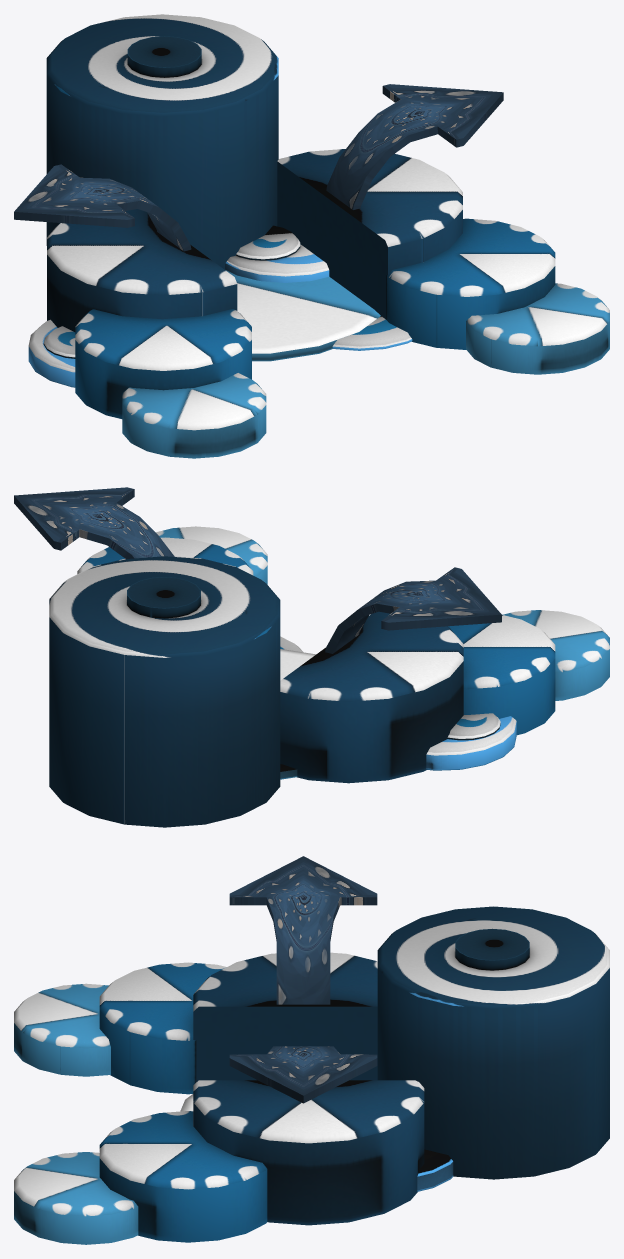
File: Joypad_2.FBX
3 renders of one model, top to bottom at view 1: azimuth 30°, elevation 25°; view 2: azimuth 150°, elevation 25°; view 3: azimuth 270°, elevation 25°, orthographic.
Parts seen in each view (by area): view 1: Joypad_Base; view 2: Joypad_Base; view 3: Joypad_Base.
Part boxes in pixels (box(x1,y1,x2,y2)): Joypad_Base: box(14, 14, 609, 458); Joypad_Base: box(14, 487, 609, 827); Joypad_Base: box(14, 856, 609, 1244).
Bounding box in the file's own units: 10.38 × 3.76 × 10.91.
